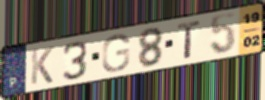3: (62, 39, 90, 82)
5: (207, 10, 237, 56)
8: (136, 25, 165, 69)
G: (100, 33, 132, 73)
K: (29, 44, 55, 87)
T: (176, 19, 203, 61)
